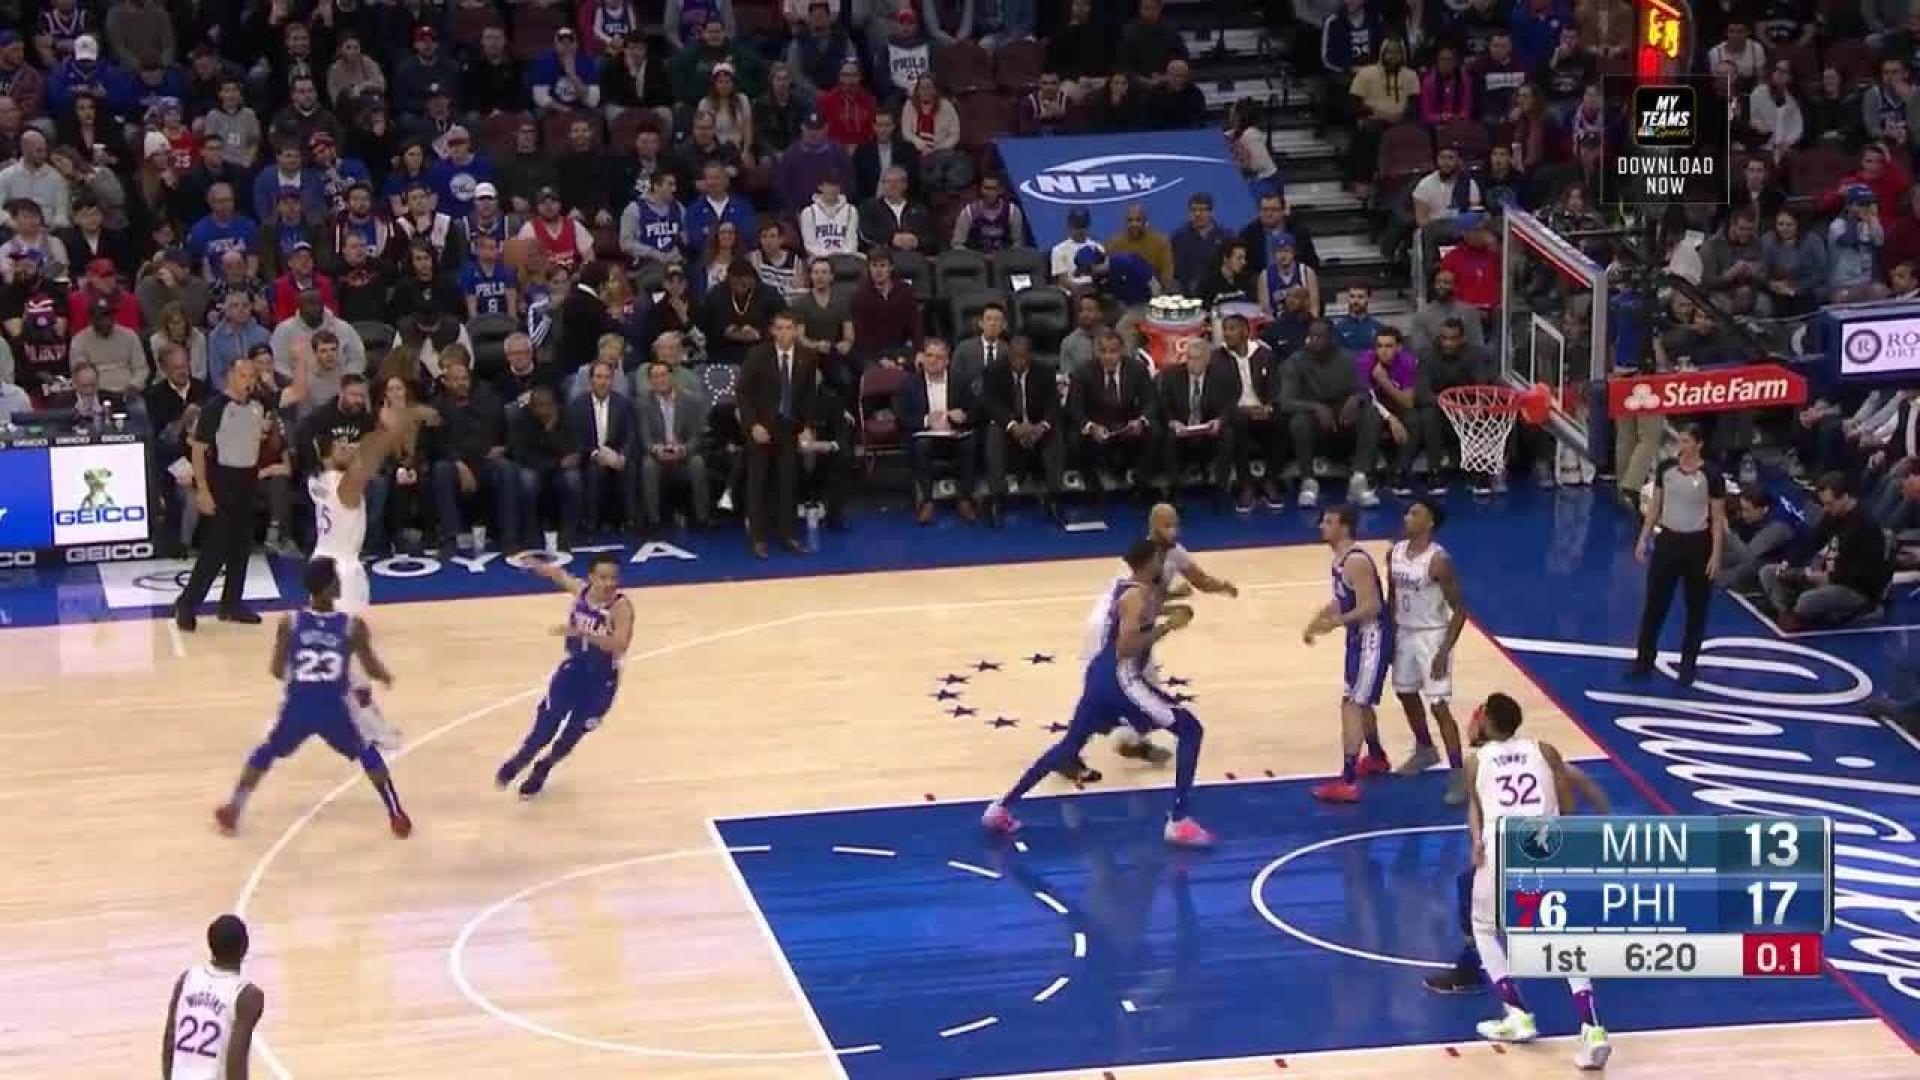Geico: (51, 458, 142, 545), (51, 538, 152, 570)
